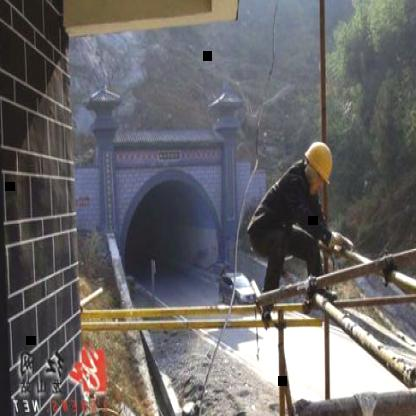helmet: (302, 131, 337, 186)
